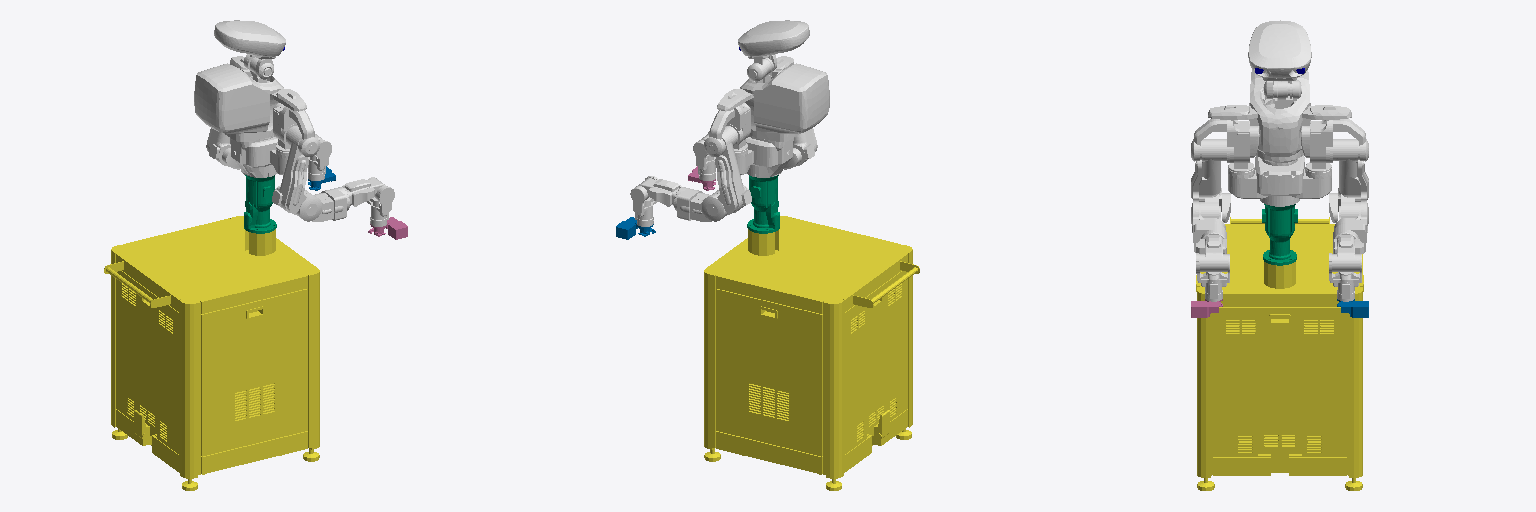
--- Render facts (derived) ---
3 views of the same robot in one strip: view 1: azimuth 30°, elevation 25°; view 2: azimuth 150°, elevation 25°; view 3: azimuth 270°, elevation 25° (orthographic).
Model nextage with 24 links and 23 joints (15 revolute, 8 fixed), rooted at base_link, posed all joints at 0.
Visible links, largest first — view 1: nextage_base, CHEST_JOINT0_Link, HEAD_JOINT1_Link, RARM_JOINT1_Link, WAIST, RARM_JOINT0_Link, RARM_JOINT2_Link, RARM_JOINT3_Link, LARM_JOINT1_Link, RARM_JOINT4_Link, LARM_JOINT4_Link; view 2: nextage_base, CHEST_JOINT0_Link, HEAD_JOINT1_Link, LARM_JOINT1_Link, WAIST, LARM_JOINT0_Link, LARM_JOINT2_Link, LARM_JOINT3_Link, RARM_JOINT1_Link, LARM_JOINT4_Link, RARM_JOINT4_Link; view 3: nextage_base, CHEST_JOINT0_Link, HEAD_JOINT1_Link, LARM_JOINT1_Link, RARM_JOINT1_Link, LARM_JOINT0_Link, RARM_JOINT0_Link, WAIST, LARM_JOINT3_Link, RARM_JOINT3_Link, LARM_JOINT2_Link, RARM_JOINT2_Link (+3 smaller).
Boxes of the visible links, box(x1,y1,x2,y2) form: nextage_base: box(104, 216, 319, 490); CHEST_JOINT0_Link: box(194, 56, 306, 177); HEAD_JOINT1_Link: box(214, 20, 285, 79); RARM_JOINT1_Link: box(272, 124, 311, 215); WAIST: box(244, 175, 276, 233); RARM_JOINT0_Link: box(273, 103, 319, 156); RARM_JOINT2_Link: box(297, 187, 346, 221); RARM_JOINT3_Link: box(340, 178, 387, 210); LARM_JOINT1_Link: box(206, 128, 239, 169); RARM_JOINT4_Link: box(367, 177, 394, 223); LARM_JOINT4_Link: box(308, 141, 331, 177); nextage_base: box(704, 216, 919, 490); CHEST_JOINT0_Link: box(717, 56, 829, 177); HEAD_JOINT1_Link: box(738, 20, 809, 75); LARM_JOINT1_Link: box(712, 124, 751, 215); WAIST: box(747, 175, 779, 233); LARM_JOINT0_Link: box(704, 103, 750, 156); LARM_JOINT2_Link: box(677, 187, 726, 221); LARM_JOINT3_Link: box(635, 178, 683, 210); RARM_JOINT1_Link: box(784, 128, 817, 169); LARM_JOINT4_Link: box(630, 176, 658, 223); RARM_JOINT4_Link: box(693, 132, 715, 177); nextage_base: box(1196, 217, 1363, 490); CHEST_JOINT0_Link: box(1208, 70, 1351, 206); HEAD_JOINT1_Link: box(1248, 20, 1311, 98); LARM_JOINT1_Link: box(1329, 139, 1368, 222); RARM_JOINT1_Link: box(1191, 139, 1230, 222); LARM_JOINT0_Link: box(1300, 119, 1368, 174); RARM_JOINT0_Link: box(1191, 119, 1259, 174); WAIST: box(1262, 204, 1297, 265); LARM_JOINT3_Link: box(1332, 232, 1363, 271); RARM_JOINT3_Link: box(1196, 232, 1227, 271); LARM_JOINT2_Link: box(1333, 201, 1368, 252); RARM_JOINT2_Link: box(1191, 201, 1226, 252).
Bounding box of the posed robot: 1.02 × 0.622 × 1.69 m (x, y, z).
19 mesh visuals loaded from 19 distinct referenced files (19 Collada DAE).

URDF robot description (nextage):
<?xml version="1.0" ?>
<robot name="nextage">
  <material name="Black">
    <color rgba="0.0 0.0 0.0 1.0"/>
  </material>
  <material name="Blue">
    <color rgba="0.0 0.0 0.8 1.0"/>
  </material>
  <material name="Green">
    <color rgba="0.0 0.8 0.0 1.0"/>
  </material>
  <material name="LightGrey">
    <color rgba="0.6 0.6 0.6 1.0"/>
  </material>
  <material name="Grey">
    <color rgba="0.4 0.4 0.4 1.0"/>
  </material>
  <material name="DarkGrey">
    <color rgba="0.2 0.2 0.2 1.0"/>
  </material>
  <material name="Red">
    <color rgba="0.8 0.0 0.0 1.0"/>
  </material>
  <material name="White">
    <color rgba="1.0 1.0 1.0 1.0"/>
  </material>  
  <joint name="CAMERA_HEAD_L" type="fixed">
    <origin rpy="0 0.25 0" xyz="0.0175 0.0725 0.105"/>
    <parent link="HEAD_JOINT1_Link"/>
    <child link="CAMERA_HEAD_L_Link"/>
  </joint>
  <link name="CAMERA_HEAD_L_Link">
    <visual>
      <origin rpy="0 1.5707963267948966 -0.05" xyz="0.0325 0 0"/>
      <geometry>
        <cylinder length="0.01" radius="0.015"/>
      </geometry>
      <material name="Blue"/>
    </visual>
    <inertial>
      <origin rpy="0 0 0" xyz="0 0 0"/>
      <mass value="1e-6"/>
      <inertia ixx="1e-12" ixy="0.0" ixz="0.0" iyy="1e-12" iyz="0.0" izz="1e-12"/>
    </inertial>
  </link>
  <joint name="CAMERA_HEAD_R" type="fixed">
    <origin rpy="0 0.25 0" xyz="0.0175 -0.0725 0.105"/>
    <parent link="HEAD_JOINT1_Link"/>
    <child link="CAMERA_HEAD_R_Link"/>
  </joint>
  <link name="CAMERA_HEAD_R_Link">
    <visual>
      <origin rpy="0 1.5707963267948966 0.05" xyz="0.0325 0 0"/>
      <geometry>
        <cylinder length="0.01" radius="0.015"/>
      </geometry>
      <material name="Blue"/>
    </visual>
    <inertial>
      <origin rpy="0 0 0" xyz="0 0 0"/>
      <mass value="1e-6"/>
      <inertia ixx="1e-12" ixy="0.0" ixz="0.0" iyy="1e-12" iyz="0.0" izz="1e-12"/>
    </inertial>
  </link>
  <link name="WAIST">
    <visual>
      <origin rpy="0 0 0" xyz="0 0 0"/>
      <geometry>
        <mesh filename="meshes/WAIST_Link_mesh.dae"/>
      </geometry>
    </visual>
    <collision>
      <origin rpy="0 0 0" xyz="0.0 0 0.098"/>
      <geometry>
        <cylinder length="0.376" radius="0.06"/>
      </geometry>
    </collision>
    <inertial>
      <mass value="5"/>
      <origin rpy="0 0 0" xyz="0 0 0.15"/>
      <inertia ixx="0.05416666666666667" ixy="0.0" ixz="0.0" iyy="0.05416666666666667" iyz="0.0" izz="0.03333333333333334"/>
    </inertial>
  </link>
  <gazebo reference="gazebo_CHEST_JOINT0_Link">
    <material>Gazebo/Black</material>
    <mu1 value="1.0"/>
    <mu2 value="1.0"/>
    <kp value="1e5"/>
    <kd value="1e2"/>
    <maxVel value="100.0"/>
    <minDepth value="0.0"/>
    <dampingFactor>0.01</dampingFactor>
  </gazebo>
  <link name="CHEST_JOINT0_Link">
    <visual>
      <origin rpy="0 0 0" xyz="0 0 0"/>
      <geometry>
        <mesh filename="meshes/CHEST_JOINT0_Link_mesh.dae"/>
      </geometry>
    </visual>
    <collision>
      <origin rpy="0 0 0" xyz="0 0 0.1575"/>
      <geometry>
        <cylinder length="0.385" radius="0.08"/>
      </geometry>
    </collision>
    <collision>
      <origin rpy="0 0 0" xyz="0.04 0.135 0.0423"/>
      <geometry>
        <cylinder length="0.09" radius="0.05"/>
      </geometry>
    </collision>
    <collision>
      <origin rpy="0 0 0" xyz="0.04 -0.135 0.0423"/>
      <geometry>
        <cylinder length="0.09" radius="0.05"/>
      </geometry>
    </collision>
    <collision>
      <origin rpy="0 0 0" xyz="0 0 0.055"/>
      <geometry>
        <box size="0.23 0.18 0.12"/>
      </geometry>
    </collision>
    <collision>
      <origin rpy="0 0 0" xyz="-0.04 0 0.2325"/>
      <geometry>
        <box size="0.25 0.18 0.245"/>
      </geometry>
    </collision>
    <collision>
      <origin rpy="0 0 0" xyz="-0.1525 0 0.279"/>
      <geometry>
        <box size="0.17 0.29 0.225"/>
      </geometry>
    </collision>
    <collision>
      <origin rpy="0 0 0" xyz="0.03 0 0.315"/>
      <geometry>
        <box size="0.085 0.5 0.0365"/>
      </geometry>
    </collision>
    <inertial>
      <mass value="10.0"/>
      <origin rpy="0 -0 0" xyz="0 0 0.2"/>
      <inertia ixx="0.12708333333333333" ixy="0.0" ixz="0.0" iyy="0.12708333333333333" iyz="0.0" izz="0.10416666666666667"/>
    </inertial>
  </link>
  <link name="HEAD_JOINT0_Link">
    <visual>
      <origin rpy="0 0 0" xyz="0 0 0"/>
      <geometry>
        <mesh filename="meshes/HEAD_JOINT0_Link_mesh.dae"/>
      </geometry>
    </visual>
    <collision>
      <origin rpy="1.57079 0 0" xyz="0 0.01 0.08"/>
      <geometry>
        <cylinder length="0.135" radius="0.035"/>
      </geometry>
    </collision>
    <inertial>
      <mass value="0.317929"/>
      <origin rpy="0 -0 0" xyz="0 0.00547848 0"/>
      <inertia ixx="0.0005298816666666668" ixy="0.0" ixz="0.0" iyy="0.0005298816666666668" iyz="0.0" izz="0.0005298816666666668"/>
    </inertial>
  </link>
  <link name="HEAD_JOINT1_Link">
    <visual>
      <origin rpy="0 0 0" xyz="0 0 0"/>
      <geometry>
        <mesh filename="meshes/HEAD_JOINT1_Link_mesh.dae"/>
      </geometry>
    </visual>
    <collision>
      <origin rpy="0 0.26 0" xyz="-0.05 0 0.12"/>
      <geometry>
        <box size="0.27 0.22 0.115"/>
      </geometry>
    </collision>
    <inertial>
      <mass value="0.4"/>
      <origin rpy="0 0.26 0" xyz="-0.05 0 0.12"/>
      <inertia ixx="0.002054166666666667" ixy="0.0" ixz="0.0" iyy="0.0028708333333333333" iyz="0.0" izz="0.004043333333333334"/>
    </inertial>
  </link>
  <link name="LARM_JOINT0_Link">
    <visual>
      <origin rpy="0 0 0" xyz="0 0 0"/>
      <geometry>
        <mesh filename="meshes/LARM_JOINT0_Link_mesh.dae"/>
      </geometry>
    </visual>
    <collision>
      <origin rpy="0 0 0" xyz="0 0.00775 0.095"/>
      <geometry>
        <box size="0.1 0.0815 0.19"/>
      </geometry>
    </collision>
    <collision>
      <origin rpy="1.57079 0 0" xyz="0 0.0875 0.066"/>
      <geometry>
        <cylinder length="0.175" radius="0.042"/>
      </geometry>
    </collision>
    <collision>
      <origin rpy="-0.7 0 0" xyz="0 0.125 0.145"/>
      <geometry>
        <box size="0.048 0.1 0.035"/>
      </geometry>
    </collision>
    <inertial>
      <mass value="1.32626"/>
      <origin rpy="0 -0 0" xyz="0.0 0.05 0.05"/>
      <inertia ixx="0.00207537" ixy="0.00011276" ixz="8.927e-05" iyy="0.00240295" iyz="-4.57e-05" izz="0.00141912"/>
    </inertial>
  </link>
  <link name="LARM_JOINT1_Link">
    <visual>
      <origin rpy="0 0 0" xyz="0 0 0"/>
      <geometry>
        <mesh filename="meshes/LARM_JOINT1_Link_mesh.dae"/>
      </geometry>
    </visual>
    <collision>
      <origin rpy="0 0.3 0" xyz="-0.043 0.12 -0.13"/>
      <geometry>
        <box size="0.08 0.11 0.28"/>
      </geometry>
    </collision>
    <collision>
      <origin rpy="0 0.45 0" xyz="-0.03 0.0518 -0.236"/>
      <geometry>
        <box size="0.122 0.0338 0.062"/>
      </geometry>
    </collision>
    <inertial>
      <mass value="1.14898"/>
      <origin rpy="0 -0 0" xyz="-0.04 0.1 -0.12"/>
      <inertia ixx="0.0154168" ixy="9.95417e-07" ixz="3.38147e-06" iyy="0.0147117" iyz="0.00213719" izz="0.0012658"/>
    </inertial>
  </link>
  <link name="LARM_JOINT2_Link">
    <visual>
      <origin rpy="0 0 0" xyz="0 0 0"/>
      <geometry>
        <mesh filename="meshes/LARM_JOINT2_Link_mesh.dae"/>
      </geometry>
    </visual>
    <collision>
      <origin rpy="1.57079 0 0" xyz="0 0.025 0"/>
      <geometry>
        <cylinder length="0.11" radius="0.049"/>
      </geometry>
    </collision>
    <collision>
      <origin rpy="0 0 0" xyz="0.0945 0.015 -0.03"/>
      <geometry>
        <box size="0.119 0.125 0.1"/>
      </geometry>
    </collision>
    <collision>
      <origin rpy="0 1.57079 0" xyz="0.17 0 -0.03"/>
      <geometry>
        <cylinder length="0.04" radius="0.047"/>
      </geometry>
    </collision>
    <inertial>
      <mass value="0.577518"/>
      <origin rpy="0 -0 0" xyz="0.1 0.01167107 -0.04"/>
      <inertia ixx="0.00143966" ixy="-3e-07" ixz="1.2e-06" iyy="0.00141763" iyz="-7.596e-05" izz="0.0001972"/>
    </inertial>
  </link>
  <link name="LARM_JOINT3_Link">
    <visual>
      <origin rpy="0 0 0" xyz="0 0 0"/>
      <geometry>
        <mesh filename="meshes/LARM_JOINT3_Link_mesh.dae"/>
      </geometry>
    </visual>
    <collision>
      <origin rpy="1.57079 0 0" xyz="0.1495 -0.003 0"/>
      <geometry>
        <cylinder length="0.12" radius="0.035"/>
      </geometry>
    </collision>
    <collision>
      <origin rpy="0 1.57079 0" xyz="0.075 0.0 0.018"/>
      <geometry>
        <cylinder length="0.15" radius="0.04"/>
      </geometry>
    </collision>
    <collision>
      <origin rpy="0 0 0" xyz="0.0585 0.01 0.0185"/>
      <geometry>
        <box size="0.093 0.112 0.037"/>
      </geometry>
    </collision>
    <inertial>
      <mass value="0.457418"/>
      <origin rpy="0 -0 0" xyz="0.1 -0.00395812 -0.00273"/>
      <inertia ixx="0.00069205" ixy="3e-08" ixz="5.2e-07" iyy="0.00068903" iyz="-1.915e-05" izz="0.00013509"/>
    </inertial>
  </link>
  <link name="LARM_JOINT4_Link">
    <visual>
      <origin rpy="0 0 0" xyz="0 0 0"/>
      <geometry>
        <mesh filename="meshes/LARM_JOINT4_Link_mesh.dae"/>
      </geometry>
    </visual>
    <collision>
      <origin rpy="0 0 0" xyz="0 -0.002 -0.06"/>
      <geometry>
        <box size="0.04 0.118 0.06"/>
      </geometry>
    </collision>
    <collision>
      <origin rpy="0 0 0" xyz="0 0 -0.08"/>
      <geometry>
        <cylinder length="0.08" radius="0.037"/>
      </geometry>
    </collision>
    <inertial>
      <mass value="0.418434"/>
      <origin rpy="0 -0 0" xyz="0.00243131 0.00379733 -0.0577036"/>
      <inertia ixx="0.00052016" ixy="1.69e-06" ixz="7.9e-06" iyy="0.00050569" iyz="-5.377e-05" izz="0.00014004"/>
    </inertial>
  </link>
  <link name="LARM_JOINT5_Link">
    <visual>
      <origin rpy="0 0 0" xyz="0 0 0"/>
      <geometry>
        <mesh filename="meshes/LARM_JOINT5_Link_mesh.dae"/>
      </geometry>
    </visual>
    <collision>
      <origin rpy="0 0 0" xyz="0 0 0.0065"/>
      <geometry>
        <cylinder length="0.013" radius="0.037"/>
      </geometry>
    </collision>
    <inertial>
      <mass value="1.05156"/>
      <origin rpy="0 -0 0" xyz="0.0 0.0 -0.08"/>
      <inertia ixx="0.00194072" ixy="1.1e-07" ixz="-0.00042482" iyy="0.00209392" iyz="1.2e-07" izz="0.00035788"/>
    </inertial>
  </link>
  <link name="RARM_JOINT0_Link">
    <visual>
      <origin rpy="0 0 0" xyz="0 0 0"/>
      <geometry>
        <mesh filename="meshes/RARM_JOINT0_Link_mesh.dae"/>
      </geometry>
    </visual>
    <collision>
      <origin rpy="0 0 0" xyz="0 -0.00775 0.095"/>
      <geometry>
        <box size="0.1 0.0815 0.19"/>
      </geometry>
    </collision>
    <collision>
      <origin rpy="1.57079 0 0" xyz="0 -0.0875 0.066"/>
      <geometry>
        <cylinder length="0.175" radius="0.042"/>
      </geometry>
    </collision>
    <collision>
      <origin rpy="0.7 0 0" xyz="0 -0.125 0.145"/>
      <geometry>
        <box size="0.048 0.1 0.035"/>
      </geometry>
    </collision>
    <inertial>
      <mass value="1.32626"/>
      <origin rpy="0 -0 0" xyz="0.0 -0.05 0.05"/>
      <inertia ixx="0.00207537" ixy="-0.00011276" ixz="8.927e-05" iyy="0.00240295" iyz="4.57e-05" izz="0.00141912"/>
    </inertial>
  </link>
  <link name="RARM_JOINT1_Link">
    <visual>
      <origin rpy="0 0 0" xyz="0 0 0"/>
      <geometry>
        <mesh filename="meshes/RARM_JOINT1_Link_mesh.dae"/>
      </geometry>
    </visual>
    <collision>
      <origin rpy="0 0.3 0" xyz="-0.043 -0.12 -0.13"/>
      <geometry>
        <box size="0.08 0.11 0.28"/>
      </geometry>
    </collision>
    <collision>
      <origin rpy="0 0.45 0" xyz="-0.03 -0.0518 -0.236"/>
      <geometry>
        <box size="0.122 0.0338 0.062"/>
      </geometry>
    </collision>
    <inertial>
      <mass value="1.14898"/>
      <origin rpy="0 -0 0" xyz="-0.04 -0.1 -0.12"/>
      <inertia ixx="0.0154168" ixy="-9.95417e-07" ixz="3.38147e-06" iyy="0.0147117" iyz="-0.00213719" izz="0.0012658"/>
    </inertial>
  </link>
  <link name="RARM_JOINT2_Link">
    <visual>
      <origin rpy="0 0 0" xyz="0 0 0"/>
      <geometry>
        <mesh filename="meshes/RARM_JOINT2_Link_mesh.dae"/>
      </geometry>
    </visual>
    <collision>
      <origin rpy="1.57079 0 0" xyz="0 -0.025 0"/>
      <geometry>
        <cylinder length="0.11" radius="0.049"/>
      </geometry>
    </collision>
    <collision>
      <origin rpy="0 0 0" xyz="0.0945 -0.015 -0.03"/>
      <geometry>
        <box size="0.119 0.125 0.1"/>
      </geometry>
    </collision>
    <collision>
      <origin rpy="0 1.57079 0" xyz="0.17 0 -0.03"/>
      <geometry>
        <cylinder length="0.04" radius="0.047"/>
      </geometry>
    </collision>
    <inertial>
      <mass value="0.577518"/>
      <origin rpy="0 -0 0" xyz="0.1 -0.01167107 -0.04"/>
      <inertia ixx="0.00143966" ixy="3e-07" ixz="1.2e-06" iyy="0.00141763" iyz="7.596e-05" izz="0.0001972"/>
    </inertial>
  </link>
  <link name="RARM_JOINT3_Link">
    <visual>
      <origin rpy="0 0 0" xyz="0 0 0"/>
      <geometry>
        <mesh filename="meshes/RARM_JOINT3_Link_mesh.dae"/>
      </geometry>
    </visual>
    <collision>
      <origin rpy="1.57079 0 0" xyz="0.1495 -0.003 0"/>
      <geometry>
        <cylinder length="0.12" radius="0.035"/>
      </geometry>
    </collision>
    <collision>
      <origin rpy="0 1.57079 0" xyz="0.075 0.0 0.018"/>
      <geometry>
        <cylinder length="0.15" radius="0.04"/>
      </geometry>
    </collision>
    <collision>
      <origin rpy="0 0 0" xyz="0.0585 -0.01 0.0185"/>
      <geometry>
        <box size="0.093 0.112 0.037"/>
      </geometry>
    </collision>
    <inertial>
      <mass value="0.457418"/>
      <origin rpy="0 -0 0" xyz="0.1 0.00395812 -0.00273"/>
      <inertia ixx="0.00069205" ixy="-3e-08" ixz="5.2e-07" iyy="0.00068903" iyz="1.915e-05" izz="0.00013509"/>
    </inertial>
  </link>
  <link name="RARM_JOINT4_Link">
    <visual>
      <origin rpy="0 0 0" xyz="0 0 0"/>
      <geometry>
        <mesh filename="meshes/RARM_JOINT4_Link_mesh.dae"/>
      </geometry>
    </visual>
    <collision>
      <origin rpy="0 0 0" xyz="0 -0.002 -0.06"/>
      <geometry>
        <box size="0.04 0.118 0.06"/>
      </geometry>
    </collision>
    <collision>
      <origin rpy="0 0 0" xyz="0 0 -0.08"/>
      <geometry>
        <cylinder length="0.08" radius="0.037"/>
      </geometry>
    </collision>
    <inertial>
      <mass value="0.418434"/>
      <origin rpy="0 -0 0" xyz="0.00243131 -0.00379733 -0.0577036"/>
      <inertia ixx="0.00052016" ixy="-1.69e-06" ixz="7.9e-06" iyy="0.00050569" iyz="5.377e-05" izz="0.00014004"/>
    </inertial>
  </link>
  <link name="RARM_JOINT5_Link">
    <visual>
      <origin rpy="0 0 0" xyz="0 0 0"/>
      <geometry>
        <mesh filename="meshes/RARM_JOINT5_Link_mesh.dae"/>
      </geometry>
    </visual>
    <collision>
      <origin rpy="0 0 0" xyz="0 0 0.0065"/>
      <geometry>
        <cylinder length="0.013" radius="0.037"/>
      </geometry>
    </collision>
    <inertial>
      <mass value="1.05156"/>
      <origin rpy="0 -0 0" xyz="0.0 0.0 -0.08"/>
      <inertia ixx="0.00194072" ixy="-1.1e-07" ixz="-0.00042482" iyy="0.00209392" iyz="-1.2e-07" izz="0.00035788"/>
    </inertial>
  </link>
  <joint name="CHEST_JOINT0" type="revolute">
    <parent link="WAIST"/>
    <child link="CHEST_JOINT0_Link"/>
    <origin rpy="0 0 0" xyz="0 0 0.267"/>
    <axis xyz="0 0 1"/>
    <limit effort="100" lower="-3.14159" upper="3.14159" velocity="2.513274"/>
    <dynamics damping="0.2" friction="0"/>
  </joint>
  <joint name="HEAD_JOINT0" type="revolute">
    <parent link="CHEST_JOINT0_Link"/>
    <child link="HEAD_JOINT0_Link"/>
    <origin rpy="0 0 0" xyz="0 0 0.302"/>
    <axis xyz="0 0 1"/>
    <limit effort="100" lower="-1.22173" upper="1.22173" velocity="6.684611"/>
  </joint>
  <joint name="HEAD_JOINT1" type="revolute">
    <parent link="HEAD_JOINT0_Link"/>
    <child link="HEAD_JOINT1_Link"/>
    <origin rpy="0 0 0" xyz="0 0 0.08"/>
    <axis xyz="0 1 0"/>
    <limit effort="100" lower="-0.401425" upper="1.308997" velocity="6.684611"/>
  </joint>
  <joint name="LARM_JOINT0" type="revolute">
    <parent link="CHEST_JOINT0_Link"/>
    <child link="LARM_JOINT0_Link"/>
    <origin rpy="0 0 0" xyz="0.04 0.135 0.1015"/>
    <axis xyz="0 0 1"/>
    <limit effort="150" lower="-1.5707963" upper="1.5707963" velocity="3.892084"/>
    <dynamics damping="0.5" friction="0.5"/>
  </joint>
  <joint name="LARM_JOINT1" type="revolute">
    <parent link="LARM_JOINT0_Link"/>
    <child link="LARM_JOINT1_Link"/>
    <origin rpy="0 0 0" xyz="0 0 0.066"/>
    <axis xyz="0 1 0"/>
    <limit effort="150" lower="-2.44346" upper="1.0471975" velocity="2.426008"/>
    <dynamics damping="0.5" friction="0.5"/>
  </joint>
  <joint name="LARM_JOINT2" type="revolute">
    <parent link="LARM_JOINT1_Link"/>
    <child link="LARM_JOINT2_Link"/>
    <origin rpy="0 0 0" xyz="0 0.095 -0.25"/>
    <axis xyz="0 1 0"/>
    <limit effort="150" lower="-1.22173" upper="1.5707963" velocity="3.630285"/>
    <dynamics damping="0.5" friction="0.5"/>
  </joint>
  <joint name="LARM_JOINT3" type="revolute">
    <parent link="LARM_JOINT2_Link"/>
    <child link="LARM_JOINT3_Link"/>
    <origin rpy="0 0 0" xyz="0.1805 0 -0.03"/>
    <axis xyz="1 0 0"/>
    <limit effort="150" lower="-3.1415926" upper="1.7453292" velocity="6.352998"/>
    <dynamics damping="0.5" friction="0.5"/>
  </joint>
  <joint name="LARM_JOINT4" type="revolute">
    <parent link="LARM_JOINT3_Link"/>
    <child link="LARM_JOINT4_Link"/>
    <origin rpy="0 0 0" xyz="0.1495 0 0"/>
    <axis xyz="0 1 0"/>
    <limit effort="150" lower="-3.4" upper="1.134464" velocity="6.352998"/>
    <dynamics damping="0.5" friction="0.5"/>
  </joint>
  <joint name="LARM_JOINT5" type="revolute">
    <parent link="LARM_JOINT4_Link"/>
    <child link="LARM_JOINT5_Link"/>
    <origin rpy="0 0 0" xyz="0 0 -0.1335"/>
    <axis xyz="0 0 1"/>
    <limit effort="150" lower="-2.7123889" upper="2.7123889" velocity="6.352998"/>
    <dynamics damping="0.5" friction="0.5"/>
  </joint>
  <joint name="RARM_JOINT0" type="revolute">
    <parent link="CHEST_JOINT0_Link"/>
    <child link="RARM_JOINT0_Link"/>
    <origin rpy="0 0 0" xyz="0.04 -0.135 0.1015"/>
    <axis xyz="0 0 1"/>
    <limit effort="150" lower="-1.570796" upper="1.570796" velocity="3.892084"/>
    <dynamics damping="0.5" friction="0.5"/>
  </joint>
  <joint name="RARM_JOINT1" type="revolute">
    <parent link="RARM_JOINT0_Link"/>
    <child link="RARM_JOINT1_Link"/>
    <origin rpy="0 0 0" xyz="0 0 0.066"/>
    <axis xyz="0 1 0"/>
    <limit effort="150" lower="-2.44346" upper="1.047197" velocity="2.426008"/>
    <dynamics damping="0.5" friction="0.5"/>
  </joint>
  <joint name="RARM_JOINT2" type="revolute">
    <parent link="RARM_JOINT1_Link"/>
    <child link="RARM_JOINT2_Link"/>
    <origin rpy="0 0 0" xyz="0 -0.095 -0.25"/>
    <axis xyz="0 1 0"/>
    <limit effort="150" lower="-1.22173" upper="1.570796" velocity="3.630285"/>
    <dynamics damping="0.5" friction="0.5"/>
  </joint>
  <joint name="RARM_JOINT3" type="revolute">
    <parent link="RARM_JOINT2_Link"/>
    <child link="RARM_JOINT3_Link"/>
    <origin rpy="0 0 0" xyz="0.1805 0 -0.03"/>
    <axis xyz="1 0 0"/>
    <limit effort="150" lower="-1.74532" upper="3.141592" velocity="6.352998"/>
    <dynamics damping="0.5" friction="0.5"/>
  </joint>
  <joint name="RARM_JOINT4" type="revolute">
    <parent link="RARM_JOINT3_Link"/>
    <child link="RARM_JOINT4_Link"/>
    <origin rpy="0 0 0" xyz="0.1495 0 0"/>
    <axis xyz="0 1 0"/>
    <limit effort="150" lower="-3.4" upper="1.134464" velocity="6.352998"/>
    <dynamics damping="0.5" friction="0.5"/>
  </joint>
  <joint name="RARM_JOINT5" type="revolute">
    <parent link="RARM_JOINT4_Link"/>
    <child link="RARM_JOINT5_Link"/>
    <origin rpy="0 0 0" xyz="0 0 -0.1335"/>
    <axis xyz="0 0 1"/>
    <limit effort="150" lower="-2.712388" upper="2.712388" velocity="6.352998"/>
    <dynamics damping="0.5" friction="0.5"/>
  </joint>
  <link name="base_link"/>
  <joint name="base_to_dummy" type="fixed">
    <parent link="base_link"/>
    <child link="nextage_base"/>
  </joint>
  <link name="nextage_base">
    <visual>
      <origin rpy="0 0 0" xyz="0 0 0"/>
      <geometry>
        <mesh filename="meshes/BASE_Link_mesh.dae"/>
      </geometry>
    </visual>
    <collision>
      <origin rpy="0 0 0" xyz="-0.19 0 -0.435"/>
      <geometry>
        <box size="0.585 0.585 0.72"/>
      </geometry>
    </collision>
    <collision>
      <origin rpy="0 0 0" xyz="0.0675 0.2575 -0.82"/>
      <geometry>
        <sphere radius="0.03"/>
      </geometry>
    </collision>
    <collision>
      <origin rpy="0 0 0" xyz="0.0675 -0.2575 -0.82"/>
      <geometry>
        <sphere radius="0.03"/>
      </geometry>
    </collision>
    <collision>
      <origin rpy="0 0 0" xyz="-0.4475 0.2575 -0.82"/>
      <geometry>
        <sphere radius="0.03"/>
      </geometry>
    </collision>
    <collision>
      <origin rpy="0 0 0" xyz="-0.4475 -0.2575 -0.82"/>
      <geometry>
        <sphere radius="0.03"/>
      </geometry>
    </collision>
    <inertial>
      <mass value="40"/>
      <origin rpy="0 0 0" xyz="-0.19 0 -0.435"/>
      <inertia ixx="2.86875" ixy="0.0" ixz="0.0" iyy="2.86875" iyz="0.0" izz="2.2815"/>
    </inertial>
  </link>
  <joint name="base_to_waist" type="fixed">
    <parent link="nextage_base"/>
    <child link="WAIST"/>
  </joint>
  <link name="LARM_camera_Link">
    <visual>
      <origin rpy="0 0 0" xyz="0 0 0"/>
      <geometry>
        <mesh filename="meshes/L_CAM.dae"/>
      </geometry>
    </visual>
    <collision>
      <origin rpy="0 0 0" xyz="0 0 -0.025"/>
      <geometry>
        <cylinder length="0.05" radius="0.037"/>
      </geometry>
    </collision>
    <collision>
      <origin rpy="0 0 0" xyz="0.0525 0.029 -0.02"/>
      <geometry>
        <box size="0.057 0.106 0.042"/>
      </geometry>
    </collision>
    <inertial>
      <mass value="1.05156"/>
      <origin rpy="0 -0 0" xyz="0.0 0.0 -0.08"/>
      <inertia ixx="0.00194072" ixy="1.1e-07" ixz="-0.00042482" iyy="0.00209392" iyz="1.2e-07" izz="0.00035788"/>
    </inertial>
  </link>
  <joint name="LARM_JOINT6" type="fixed">
    <parent link="LARM_JOINT5_Link"/>
    <child link="LARM_camera_Link"/>
    <origin rpy="0 0 0" xyz="0 0 0"/>
    <axis xyz="0 0 1"/>
  </joint>
  <joint name="CAMERA_HAND_L" type="fixed">
    <origin rpy="0 1.5708 0" xyz="0.0525 0.0525 0.0"/>
    <parent link="LARM_JOINT5_Link"/>
    <child link="CAMERA_HAND_L_Link"/>
  </joint>
  <link name="CAMERA_HAND_L_Link">
    <visual>
      <origin rpy="0 1.5707963267948966 -0.0" xyz="0.0325 0 0"/>
      <geometry>
        <cylinder length="0.01" radius="0.015"/>
      </geometry>
      <material name="Blue"/>
    </visual>
    <inertial>
      <origin rpy="0 0 0" xyz="0 0 0"/>
      <mass value="1e-6"/>
      <inertia ixx="1e-12" ixy="0.0" ixz="0.0" iyy="1e-12" iyz="0.0" izz="1e-12"/>
    </inertial>
  </link>
  <link name="RARM_camera_Link">
    <visual>
      <origin rpy="0 0 0" xyz="0 0 0"/>
      <geometry>
        <mesh filename="meshes/R_CAM.dae"/>
      </geometry>
    </visual>
    <collision>
      <origin rpy="0 0 0" xyz="0 0 -0.025"/>
      <geometry>
        <cylinder length="0.05" radius="0.037"/>
      </geometry>
    </collision>
    <collision>
      <origin rpy="0 0 0" xyz="0.0525 -0.029 -0.02"/>
      <geometry>
        <box size="0.057 0.106 0.042"/>
      </geometry>
    </collision>
    <inertial>
      <mass value="1.05156"/>
      <origin rpy="0 -0 0" xyz="0.0 0.0 -0.08"/>
      <inertia ixx="0.00194072" ixy="-1.1e-07" ixz="-0.00042482" iyy="0.00209392" iyz="-1.2e-07" izz="0.00035788"/>
    </inertial>
  </link>
  <joint name="RARM_JOINT6" type="fixed">
    <parent link="RARM_JOINT5_Link"/>
    <child link="RARM_camera_Link"/>
    <origin rpy="0 0 0" xyz="0 0 0"/>
    <axis xyz="0 0 1"/>
  </joint>
  <joint name="CAMERA_HAND_R" type="fixed">
    <origin rpy="0 1.5708 0" xyz="0.0525 -0.0525 0.0"/>
    <parent link="RARM_JOINT5_Link"/>
    <child link="CAMERA_HAND_R_Link"/>
  </joint>
  <link name="CAMERA_HAND_R_Link">
    <visual>
      <origin rpy="0 1.5707963267948966 -0.0" xyz="0.0325 0 0"/>
      <geometry>
        <cylinder length="0.01" radius="0.015"/>
      </geometry>
      <material name="Blue"/>
    </visual>
    <inertial>
      <origin rpy="0 0 0" xyz="0 0 0"/>
      <mass value="1e-6"/>
      <inertia ixx="1e-12" ixy="0.0" ixz="0.0" iyy="1e-12" iyz="0.0" izz="1e-12"/>
    </inertial>
  </link>
</robot>
